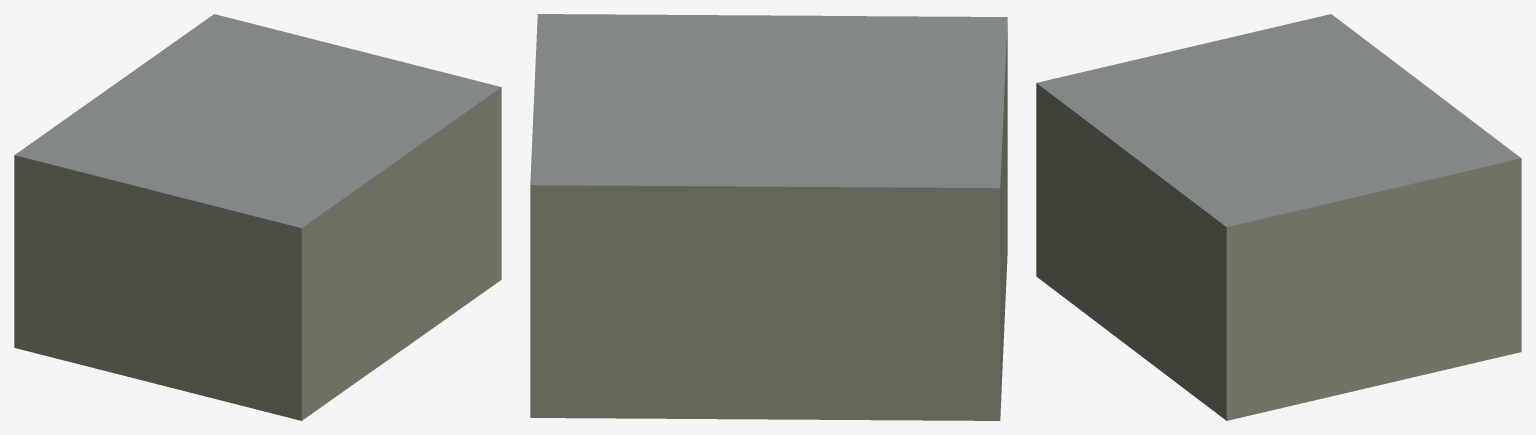
Rendered from nyc-1022630-0.glb.
The picture shows the model from 3 angles, left to right: view 1: azimuth 30°, elevation 25°; view 2: azimuth 150°, elevation 25°; view 3: azimuth 270°, elevation 25°; orthographic projection. The views are drawn at different scales.
Parts seen in each view (by area): view 1: nyc-1022630-0; view 2: nyc-1022630-0; view 3: nyc-1022630-0.
Boxes of the visible parts, x1,y1,x2,y2 form: nyc-1022630-0: (14,14,501,420); nyc-1022630-0: (530,14,1007,420); nyc-1022630-0: (1036,14,1521,420).
Size of the model in its own units: 45.28 by 19.17 by 43.52.
